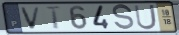4: (92, 4, 113, 31)
6: (68, 4, 88, 31)
S: (111, 3, 136, 32)
T: (44, 6, 63, 31)
U: (133, 4, 158, 31)
V: (20, 6, 43, 31)
